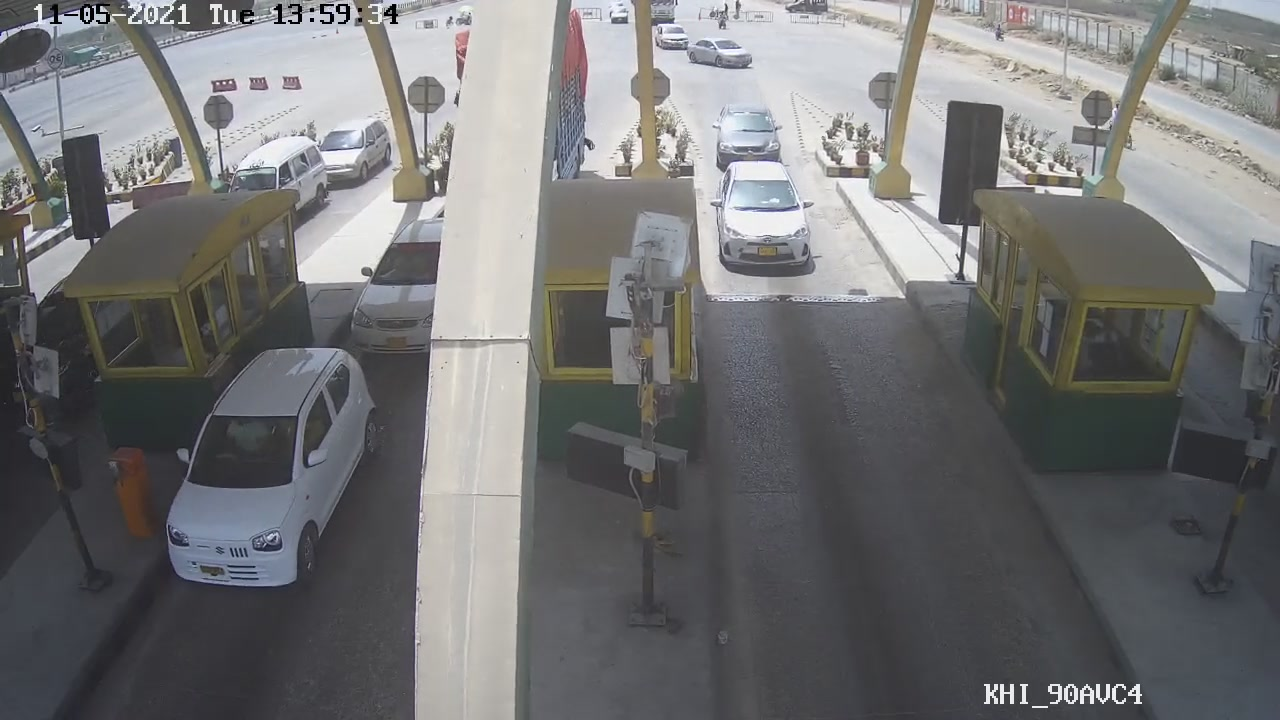F1: (704, 157, 817, 276)
